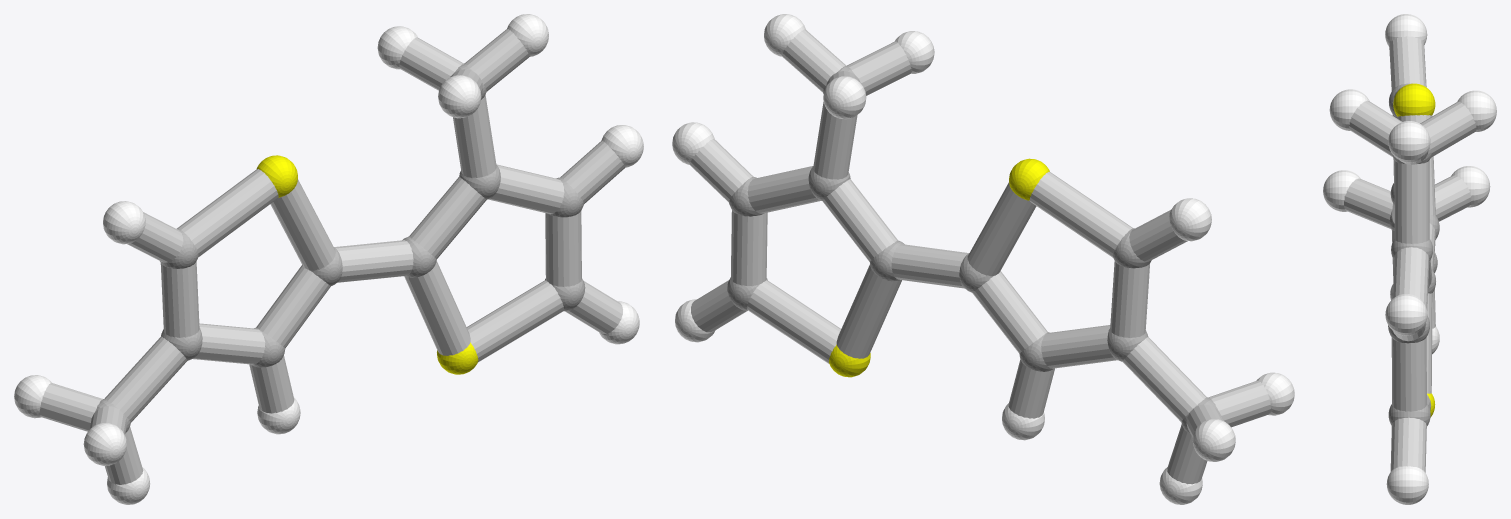
Rendered from color.glb.
3 views of the same model, side by side, from view 1: azimuth 30°, elevation 25°; view 2: azimuth 150°, elevation 25°; view 3: azimuth 270°, elevation 25° (orthographic). The views are drawn at different scales.
Visible parts, largest first — view 1: grp7965, grp3621, grp1, grp7241; view 2: grp7965, grp3621, grp1, grp7241; view 3: grp7965, grp3621, grp1, grp7241.
Part boxes in pixels (box(x1,y1,x2,y2)): grp7965: box(39, 29, 625, 484); grp3621: box(14, 14, 643, 504); grp1: box(95, 64, 585, 433); grp7241: box(256, 155, 478, 374); grp7965: box(689, 29, 1270, 484); grp3621: box(672, 14, 1294, 504); grp1: box(727, 66, 1217, 433); grp7241: box(829, 158, 1049, 377); grp7965: box(1344, 36, 1476, 472); grp3621: box(1323, 14, 1496, 504); grp1: box(1388, 83, 1439, 425); grp7241: box(1393, 83, 1435, 417).
Bounding box in the file's own units: 9.45 × 5.96 × 2.48.
